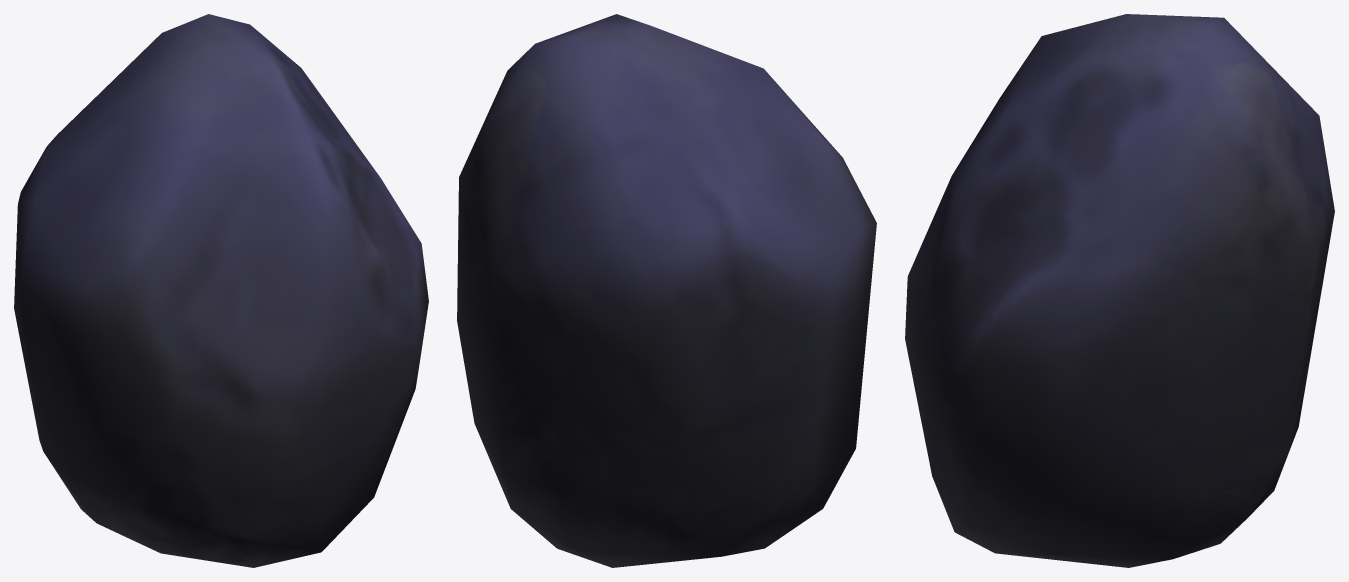
File: SM_Gem_Obsidian_010.fbx
3 views of the same model, side by side, from view 1: azimuth 30°, elevation 25°; view 2: azimuth 150°, elevation 25°; view 3: azimuth 270°, elevation 25° (orthographic). The views are drawn at different scales.
Parts seen in each view (by area): view 1: SM_Gem_Obsidian_010; view 2: SM_Gem_Obsidian_010; view 3: SM_Gem_Obsidian_010.
Part boxes in pixels (x1,y1,x2,y2): SM_Gem_Obsidian_010: (14, 14, 428, 567); SM_Gem_Obsidian_010: (457, 14, 876, 567); SM_Gem_Obsidian_010: (905, 14, 1334, 567).
Bounding box in the file's own units: 15.85 × 20.34 × 15.02.
